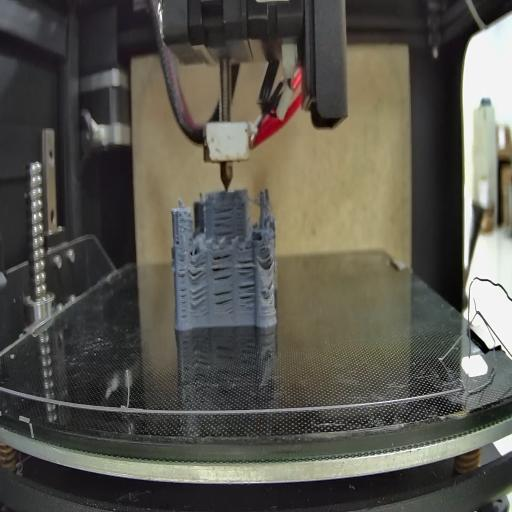cracks: (215, 204, 237, 240), (210, 250, 232, 280), (178, 256, 188, 318), (214, 288, 234, 317), (239, 283, 258, 311), (189, 259, 207, 285), (236, 257, 255, 278), (190, 291, 206, 310), (261, 247, 274, 270), (173, 232, 182, 246), (268, 280, 274, 292)
